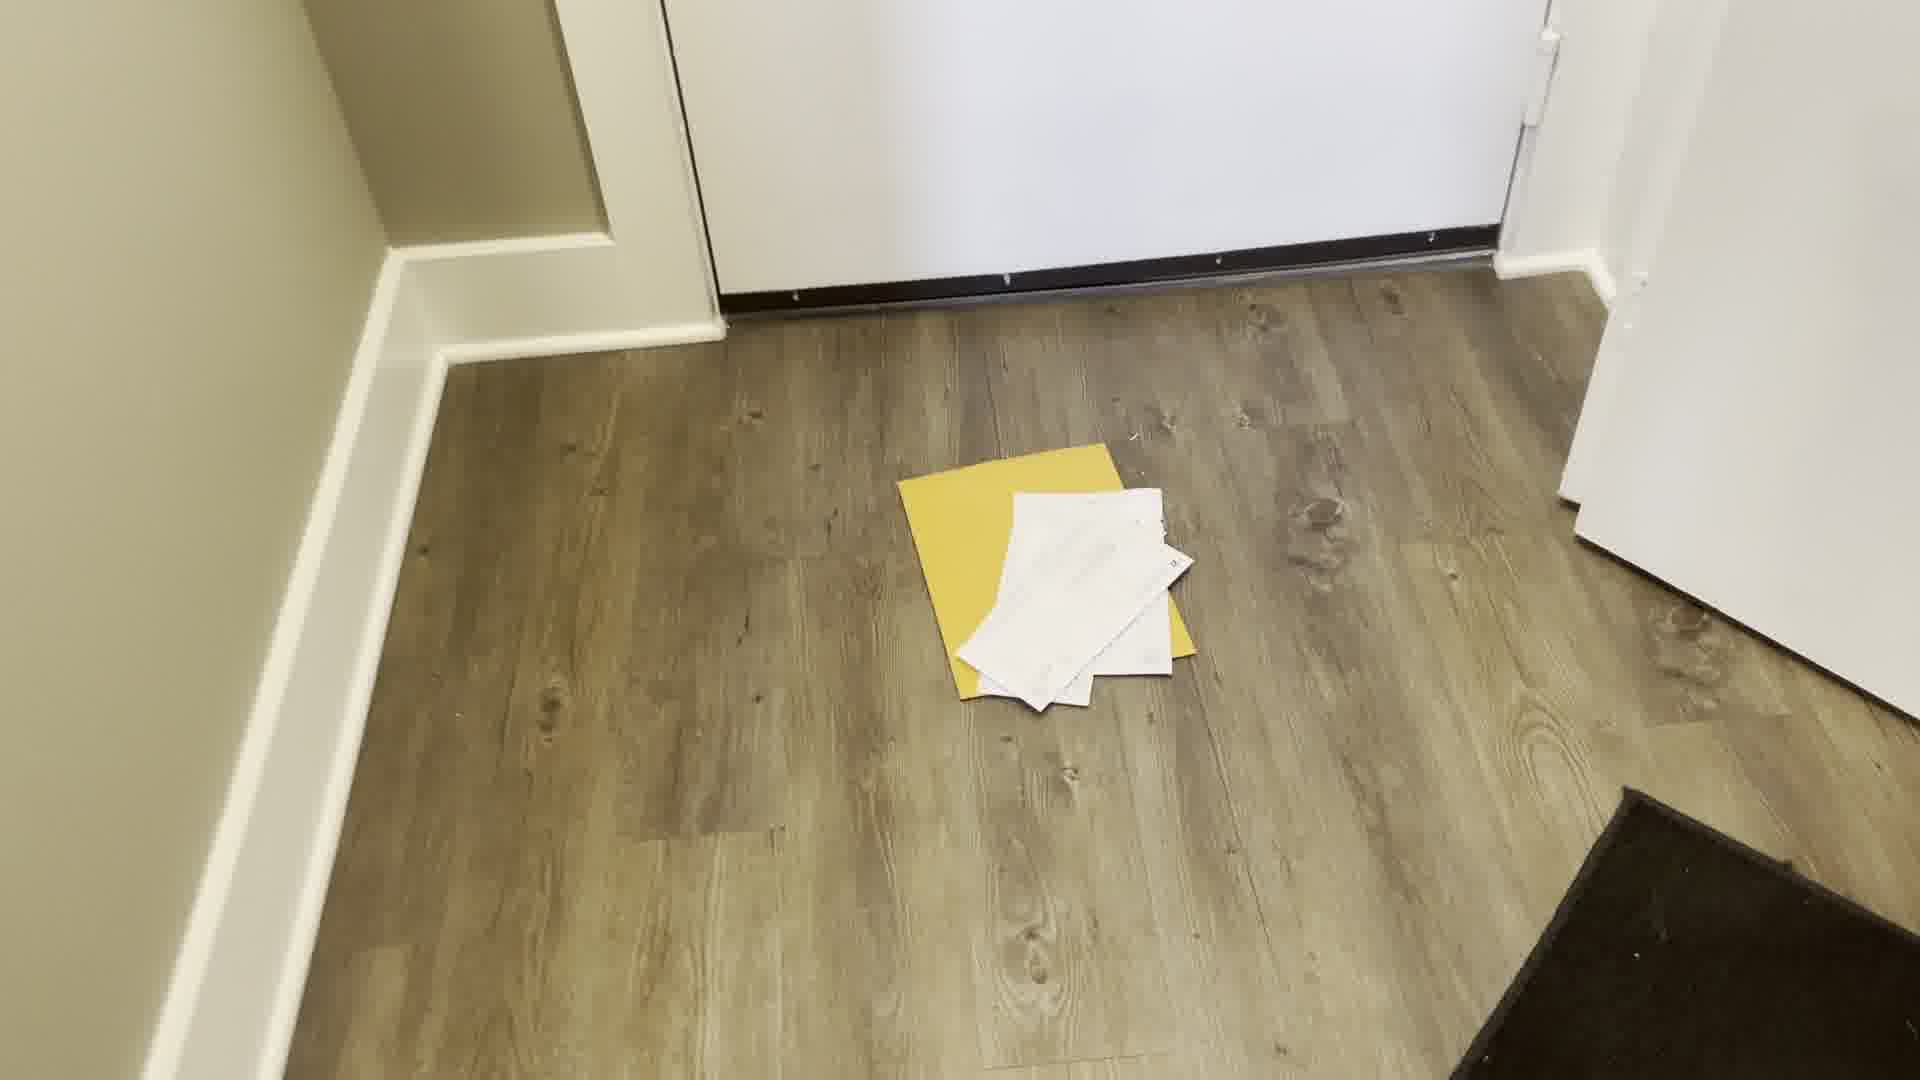envelope: (898, 426, 1200, 723), (945, 471, 1200, 719)
